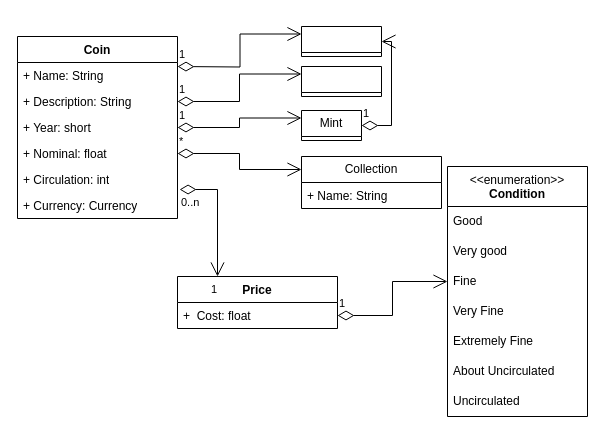
Some shapes in this 605 by 434 pixel diagram are drawn without their labels. Each missing label, with the centre of its shape:
"Country" goes at point (341, 41).
"Material" goes at point (341, 81).
